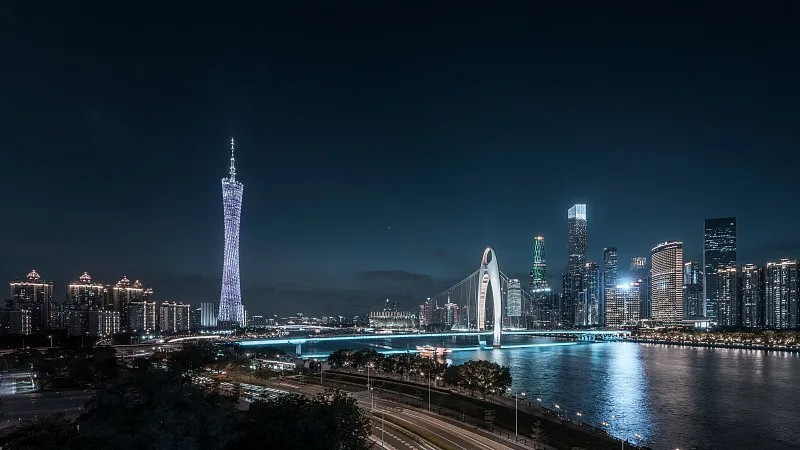Canton: (218, 137, 249, 321)
